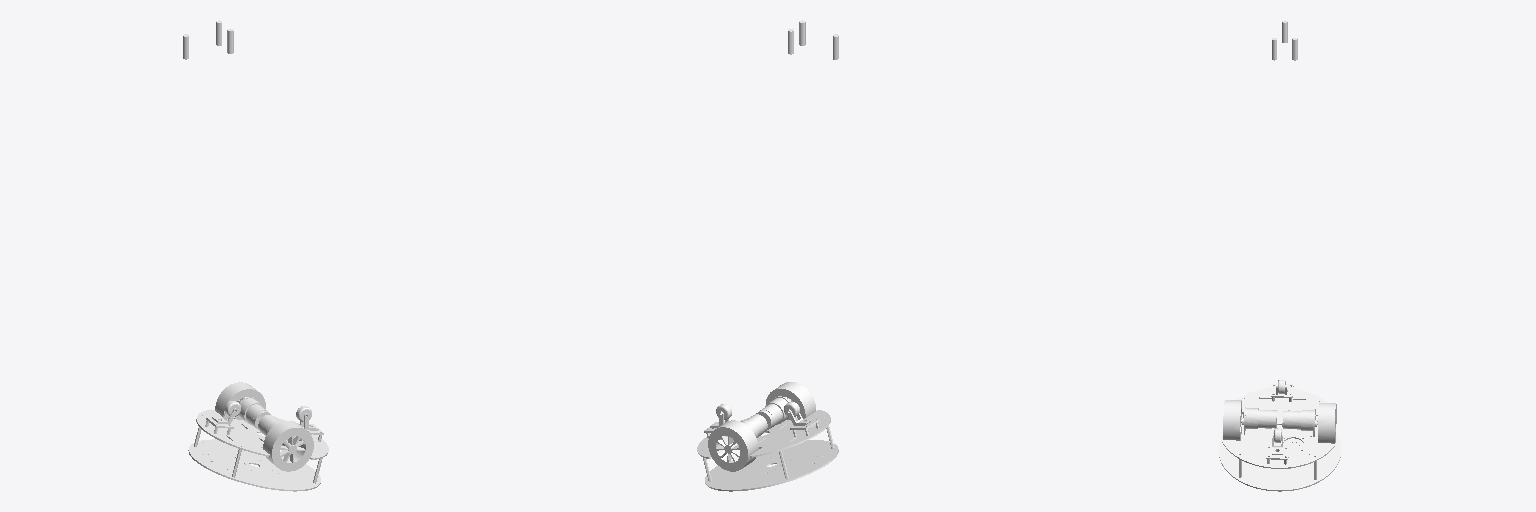
robot.urdf — llama_bot:
<?xml version="1.0"?>
<robot name="llama_bot">
    <link name="base_link">
        <visual>
            <geometry>
                <mesh filename="package://llama_pkg/meshes/base_link.STL" scale="0.001 0.001 0.001"/>
            </geometry>
            <material name="white">
                <color rgba="1 1.0 1.0 1.0"/>
            </material>
            <origin xyz="0.06 -0.08 -0.25" rpy="3.14 0 1.560"/>
        </visual>    
        <collision>
            <geometry>
                <mesh filename="package://llama_pkg/meshes/base_link.STL" scale="0.001 0.001 0.001"/>
            </geometry>
            <material name="white">
                <color rgba="1 1.0 1.0 1.0"/>
            </material>
            <origin xyz="0.06 -0.08 -0.25" rpy="3.14 0 1.560"/>
        </collision>    
    </link>
    <link name="laser_frame">
    <visual>
        <geometry>
            <mesh filename="package://llama_pkg/meshes/laser_link.STL"/>
        </geometry>
        <material name="white">
            <color rgba="0 0.0 0.0 1.0"/>
        </material>
        <origin xyz="0 0 -0.03" rpy="0 0 3.14"/>
    </visual>        
</link>
<joint name="laser_frame2base_link" type="fixed">
    <parent link="base_link"/>
    <child link="laser_frame"/>
    <origin xyz="0 0 0.166" rpy="0 0 0"/>
</joint>

<link name="cylinder_1">
    <visual>
        <geometry>
            <cylinder radius="0.005" length="0.040"/>
        </geometry>
        <material name="white">
            <color rgba="1 1.0 1.0 1.0"/>
        </material>
    </visual>
</link>
<link name="cylinder_2">
    <visual>
        <geometry>
            <cylinder radius="0.005" length="0.040"/>
        </geometry>
        <material name="white">
            <color rgba="1 1.0 1.0 1.0"/>
        </material>
    </visual>
</link>
<link name="cylinder_3">
    <visual>
        <geometry>
            <cylinder radius="0.005" length="0.040"/>
        </geometry>
        <material name="white">
            <color rgba="1 1.0 1.0 1.0"/>
        </material>
    </visual>
</link>
<joint name="cylinder_12base_link" type="fixed">
    <parent link="base_link"/>
    <child link="cylinder_1"/>
    <origin xyz="-0.036 0 0.13"/>
</joint>
<joint name="cylinder_22base_link" type="fixed">
    <parent link="base_link"/>
    <child link="cylinder_2"/>
    <origin xyz="0.035 -0.018 0.13"/>
</joint>
<joint name="cylinder_32base_link" type="fixed">
    <parent link="base_link"/>
    <child link="cylinder_3"/>
    <origin xyz="0.035 0.018 0.13"/>
</joint>
</robot>

--- Facts derived from the render (not from the file) ---
3 views of the same robot in one strip: view 1: azimuth 30°, elevation 25°; view 2: azimuth 150°, elevation 25°; view 3: azimuth 270°, elevation 25° (orthographic).
Model llama_bot with 5 links and 4 joints (4 fixed), rooted at base_link, posed all joints at 0.
Links seen in each view (by area): view 1: base_link; view 2: base_link; view 3: base_link.
Link boxes in pixels (x1,y1,x2,y2): base_link: [188, 382, 328, 491]; base_link: [697, 382, 838, 491]; base_link: [1219, 380, 1340, 491].
Size in the robot's own frame: 0.2443 by 0.216 by 0.8075 metres.
1 mesh visuals loaded from 2 distinct referenced files (1 binary STL); not drawn: 1 (reference not matched to a file when rendering).